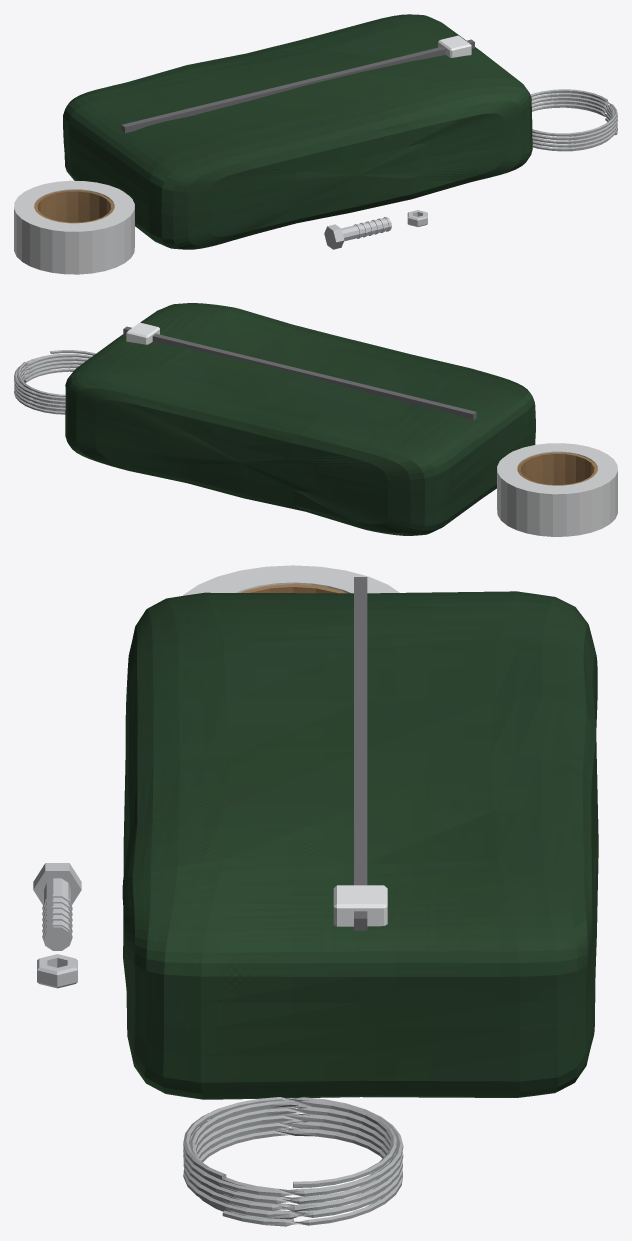
The model's file is kit_reparo.glb.
The picture shows the model from 3 angles, top to bottom: view 1: azimuth 30°, elevation 25°; view 2: azimuth 150°, elevation 25°; view 3: azimuth 270°, elevation 25°; orthographic projection. The views are drawn at different scales.
Visible parts, largest first — view 1: kit_reparo_rafia_verde, kit_reparo_fita_prata, kit_reparo_galvanizado, kit_reparo_plastico_preto, kit_reparo_papelao, kit_reparo_aco, kit_reparo_aco_polido; view 2: kit_reparo_rafia_verde, kit_reparo_fita_prata, kit_reparo_plastico_preto, kit_reparo_galvanizado, kit_reparo_papelao, kit_reparo_aco_polido; view 3: kit_reparo_rafia_verde, kit_reparo_galvanizado, kit_reparo_plastico_preto, kit_reparo_aco, kit_reparo_fita_prata, kit_reparo_aco_polido.
Part boxes in pixels (<box>): kit_reparo_rafia_verde: <box>63,14,532,249</box>; kit_reparo_fita_prata: <box>14,180,134,274</box>; kit_reparo_galvanizado: <box>530,89,617,151</box>; kit_reparo_plastico_preto: <box>121,39,474,133</box>; kit_reparo_papelao: <box>34,190,114,223</box>; kit_reparo_aco: <box>324,210,427,249</box>; kit_reparo_aco_polido: <box>438,35,471,57</box>; kit_reparo_rafia_verde: <box>65,303,535,535</box>; kit_reparo_fita_prata: <box>497,443,617,536</box>; kit_reparo_plastico_preto: <box>123,326,476,420</box>; kit_reparo_galvanizado: <box>14,350,95,414</box>; kit_reparo_papelao: <box>517,452,597,485</box>; kit_reparo_aco_polido: <box>126,322,159,344</box>; kit_reparo_rafia_verde: <box>122,591,598,1099</box>; kit_reparo_galvanizado: <box>183,1097,403,1226</box>; kit_reparo_plastico_preto: <box>354,577,367,930</box>; kit_reparo_aco: <box>33,863,81,988</box>; kit_reparo_fita_prata: <box>183,565,399,595</box>; kit_reparo_aco_polido: <box>333,885,387,926</box>.
Bounding box in the file's own units: 0.4038 × 0.0662 × 0.1679.
7 materials, 2 textured.
